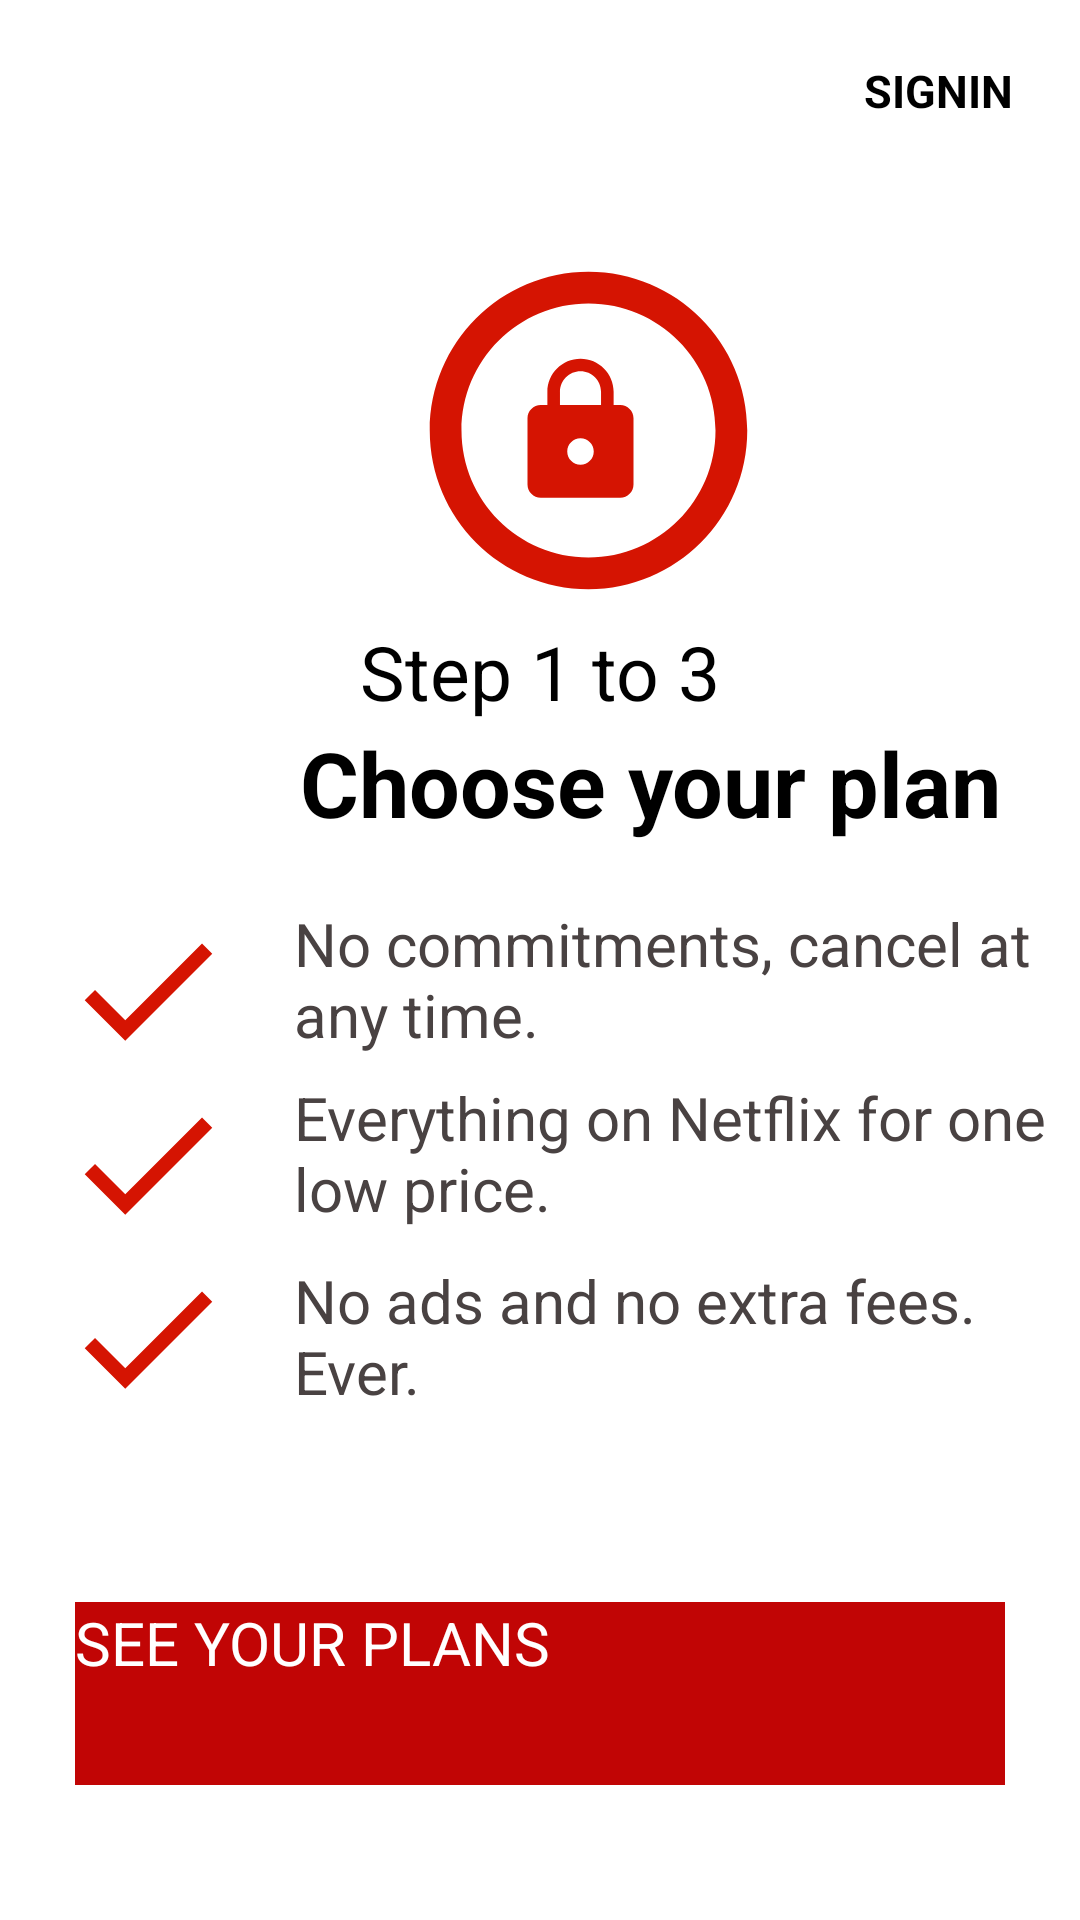

Screen size 1080x1920. Icon name, then its box in pixels as bbox=[x1, y1, x2, y2]:
check: bbox=[85, 943, 212, 1041], bbox=[85, 1117, 212, 1215], bbox=[85, 1291, 212, 1389]
